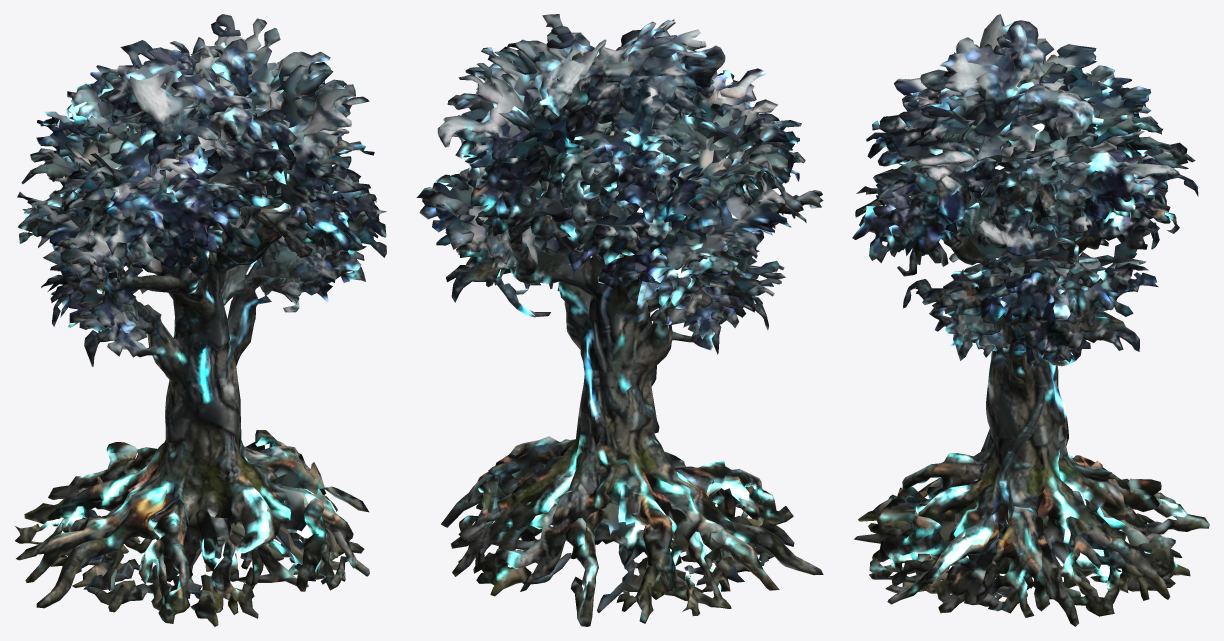
Rendered from cyber_canopy_tree.glb.
3 views of the same model, side by side, from view 1: azimuth 30°, elevation 25°; view 2: azimuth 150°, elevation 25°; view 3: azimuth 270°, elevation 25° (orthographic).
Visible parts, largest first — view 1: geometry_0; view 2: geometry_0; view 3: geometry_0.
Boxes of the visible parts, bbox=[...] form: geometry_0: bbox=[15, 14, 386, 626]; geometry_0: bbox=[416, 14, 823, 626]; geometry_0: bbox=[852, 14, 1209, 626].
Bounding box in the file's own units: 9.15 × 13 × 8.12.
1 material, 1 textured.
